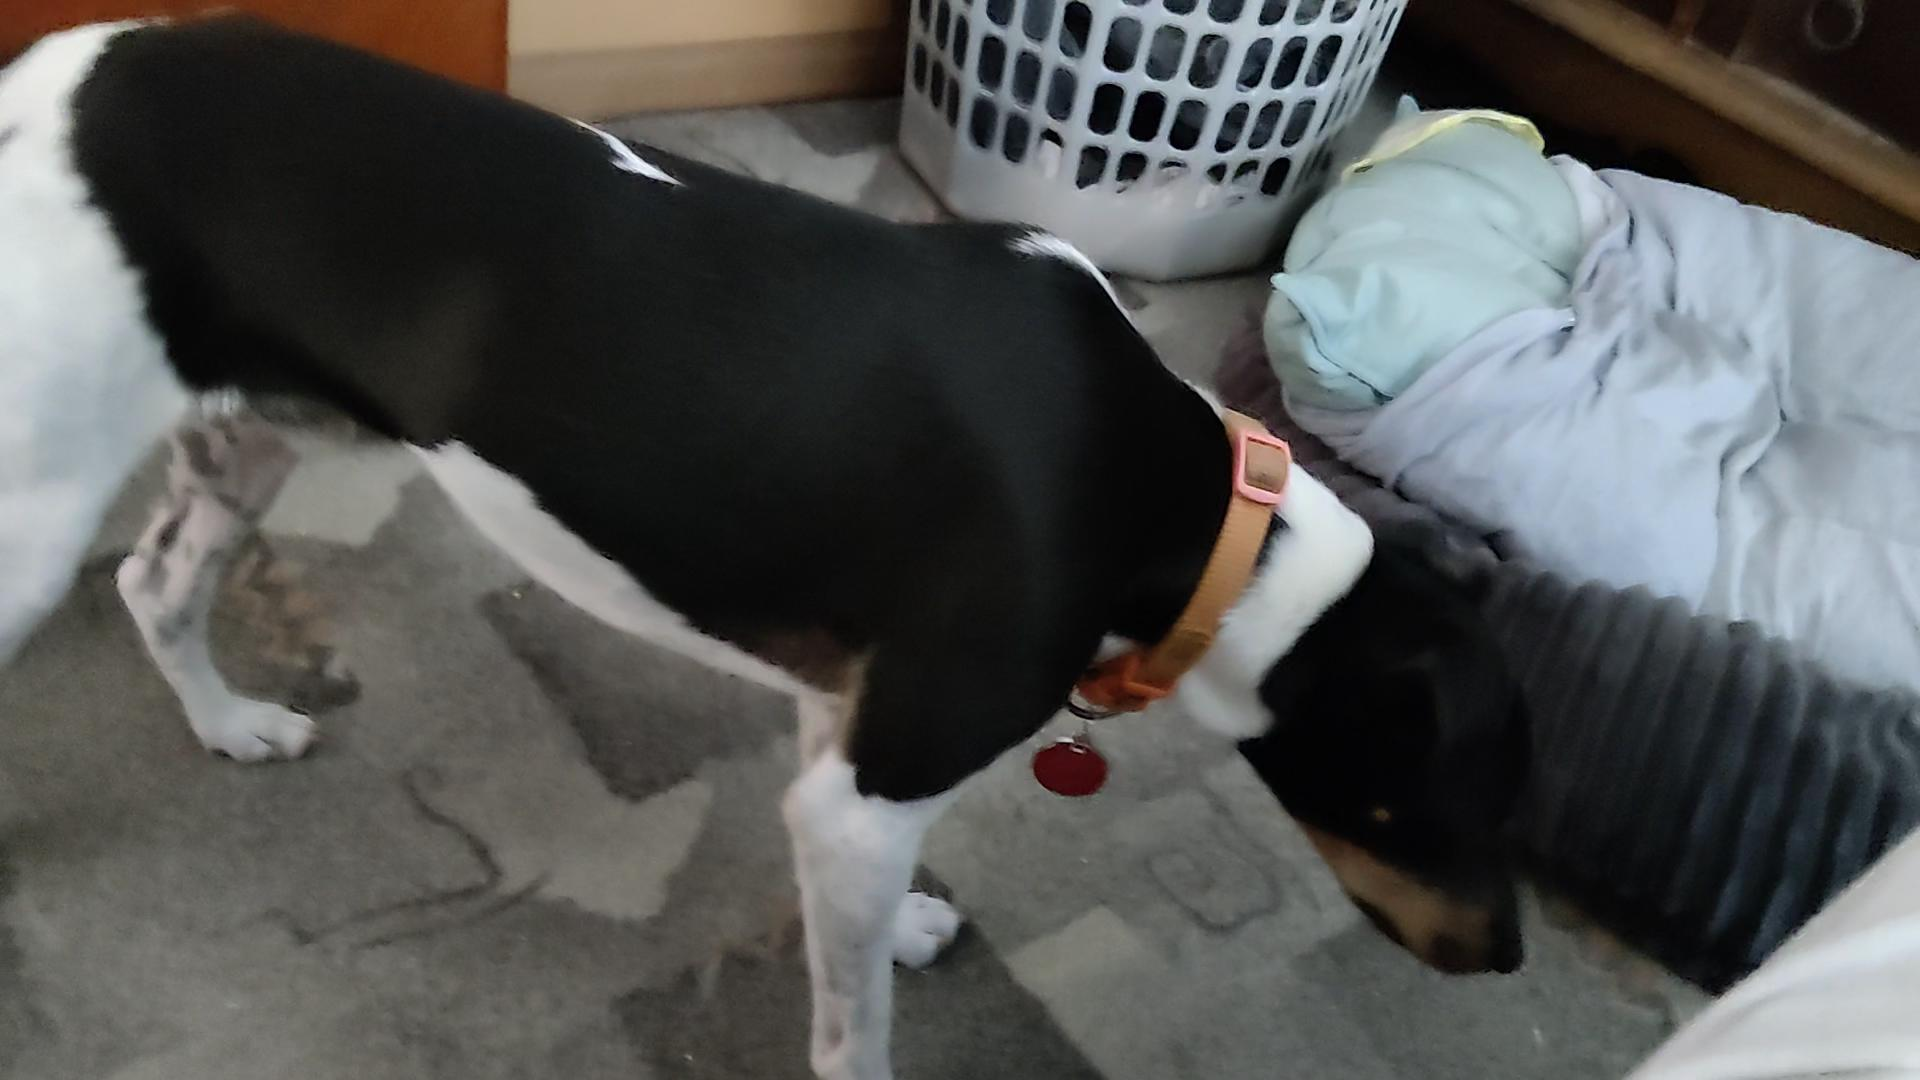Dog: (0, 13, 1545, 1079)
